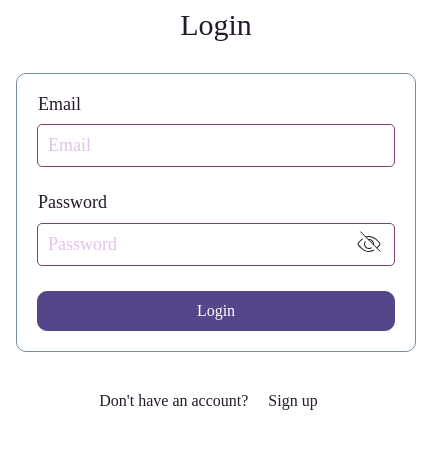
Test: AuthForm Component › handles password validation
Step 1. Type "test@example.com" into the field labelled "Email" → (216, 146), box [38,125,394,166]
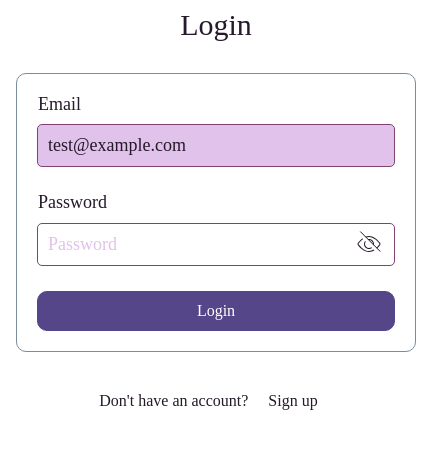
Step 2. Type "correctPassword123" into the password field labelled "Password" → (191, 244), box [38,224,344,265]
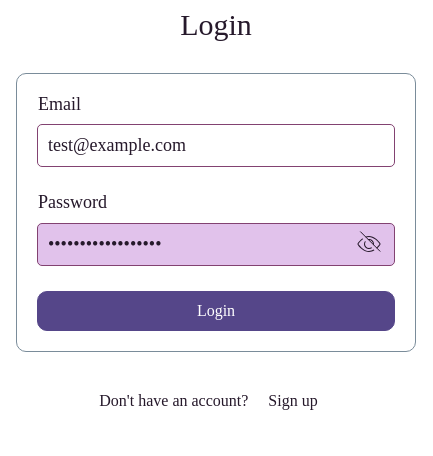
Step 3. Click the button "Login" → (216, 311), box [37,291,395,331]
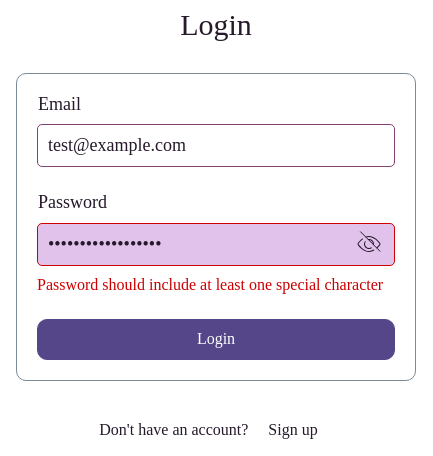
Check: the text "Password should include at least one special character" is shown, box [37,276,395,294]
